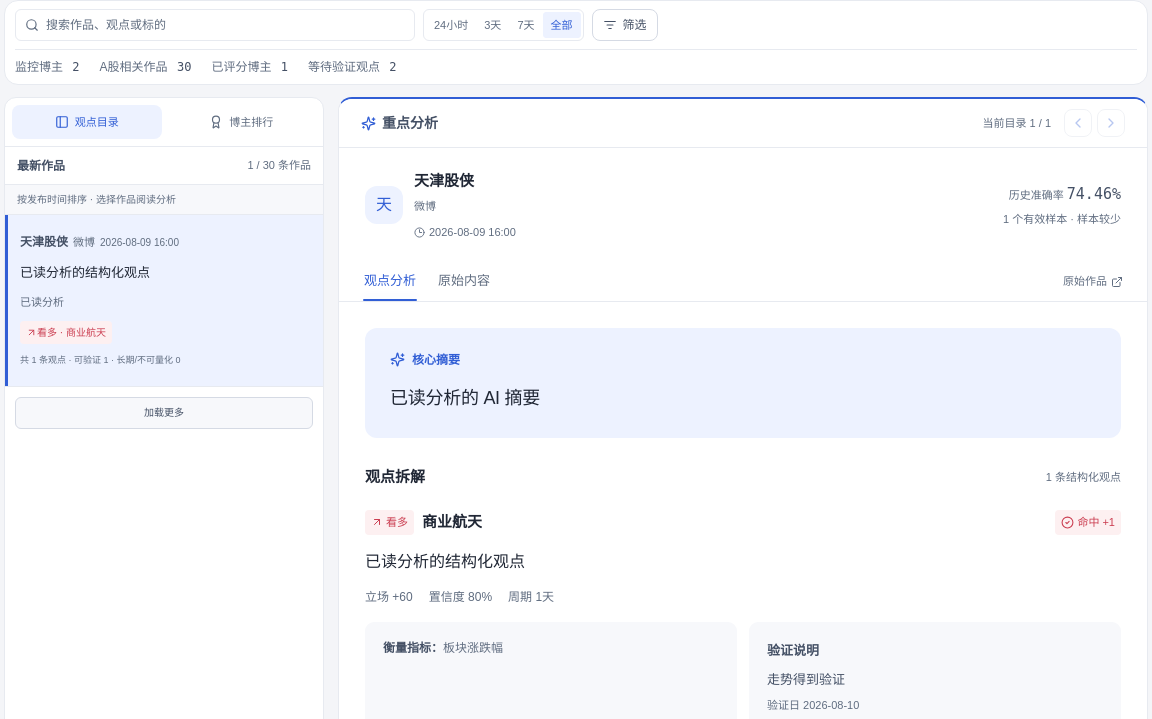
CreatorInsightsView › keeps the analysis visible after loading more fails and clears the error on retry
The width and height of the screenshot is (1152, 719).
Click the button "加载更多": (164,413) x1=15 y1=397 x2=313 y2=429
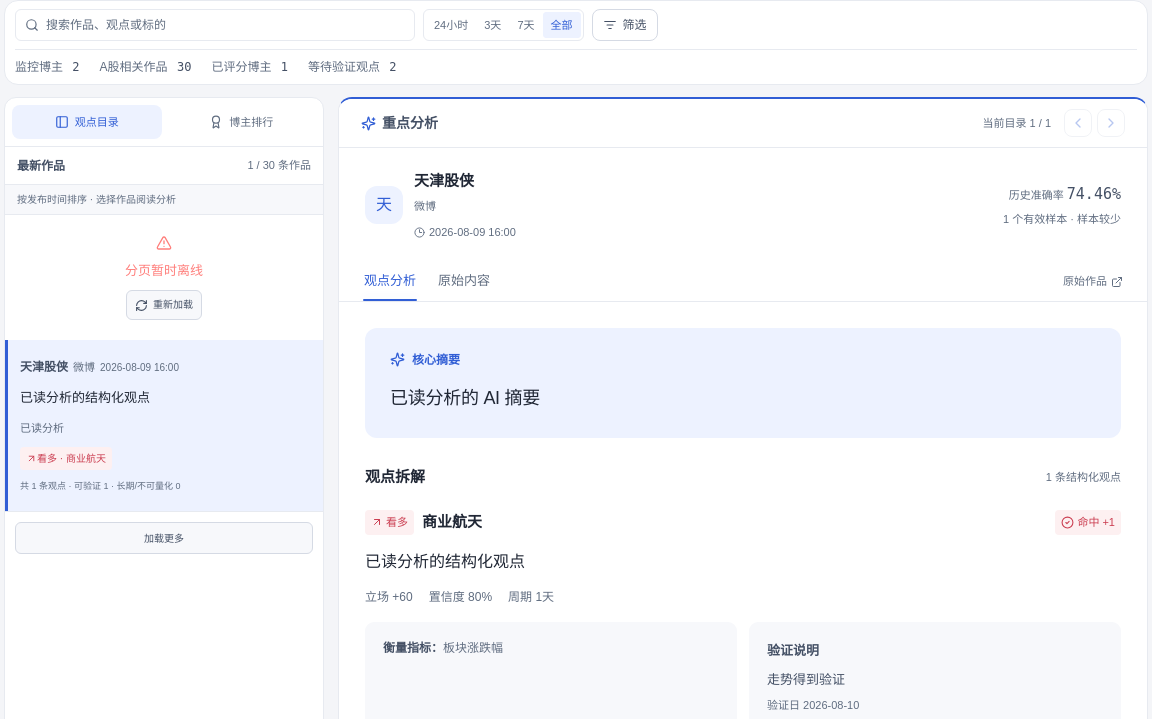
Check: the element with class "creator-ai-summary" shows "已读分析的 AI 摘要", box x1=390 y1=388 x2=540 y2=408
Check: the text "分页暂时离线" is shown, box x1=125 y1=259 x2=203 y2=282
Click the button "加载更多": (164,538) x1=15 y1=522 x2=313 y2=554
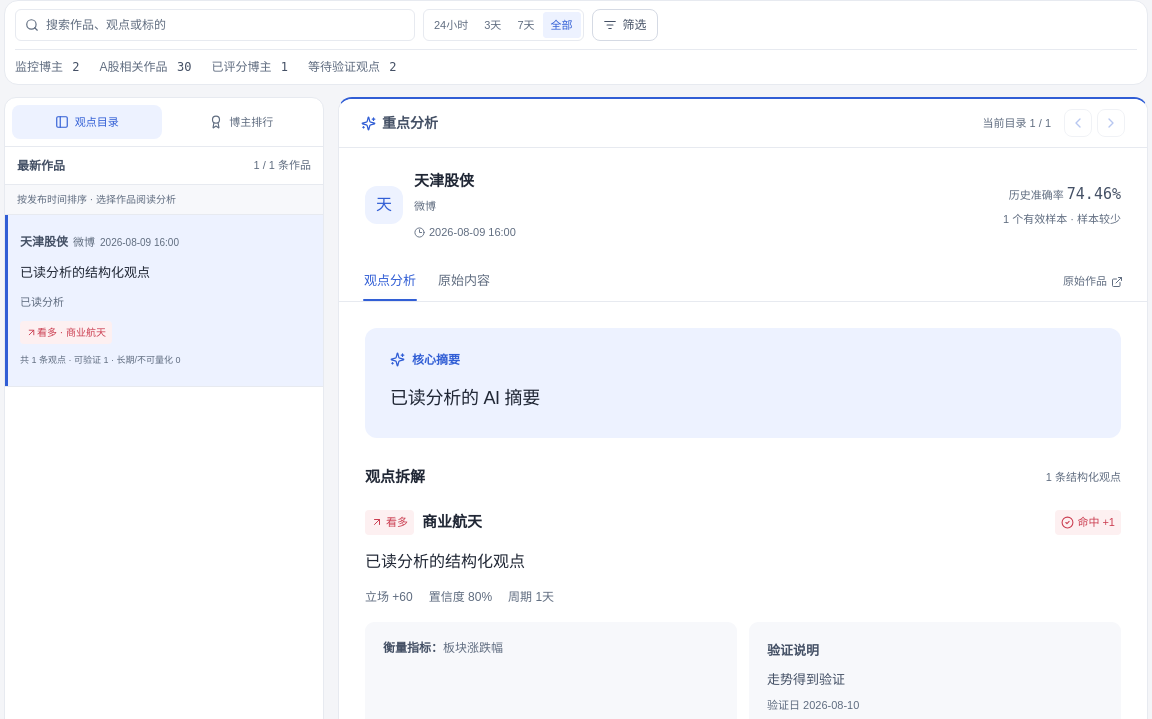
Check: the element with class "creator-ai-summary" shows "已读分析的 AI 摘要", box x1=390 y1=388 x2=540 y2=408
Check: the text "分页暂时离线" is gone
